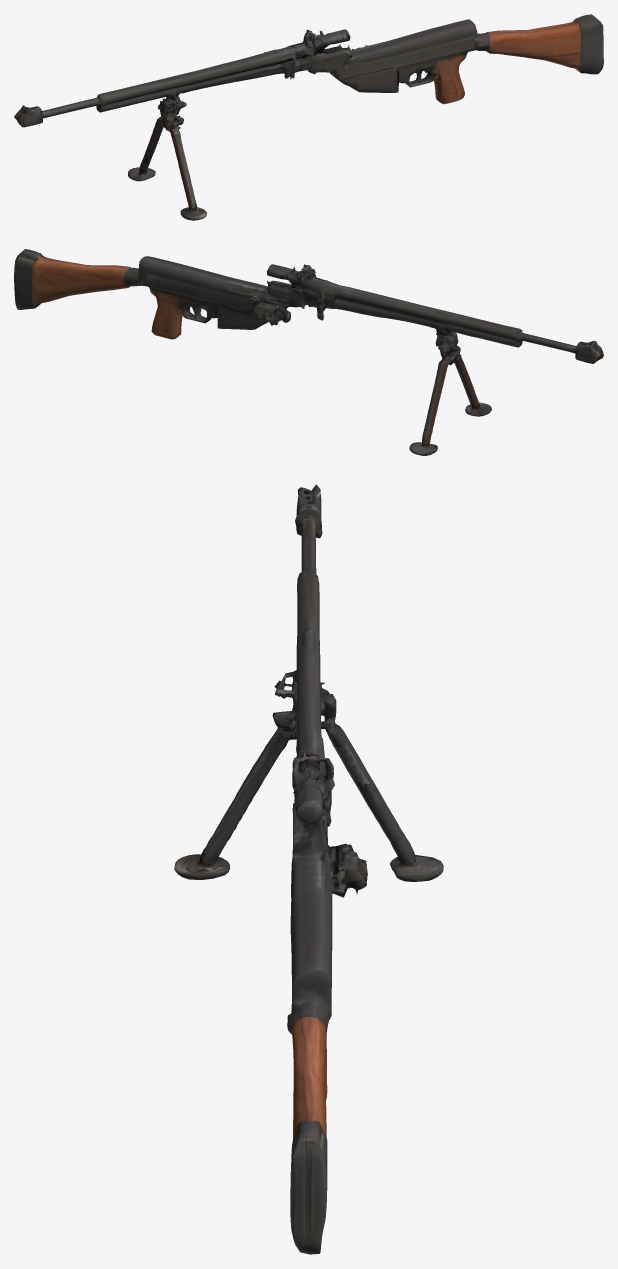
Rendered from atr_2_ptrd.glb.
The picture shows the model from 3 angles, top to bottom: view 1: azimuth 30°, elevation 25°; view 2: azimuth 150°, elevation 25°; view 3: azimuth 270°, elevation 25°; orthographic projection. The views are drawn at different scales.
Bounding box in the file's own units: 1.99 × 0.4201 × 0.3975.
1 material, 1 textured.
